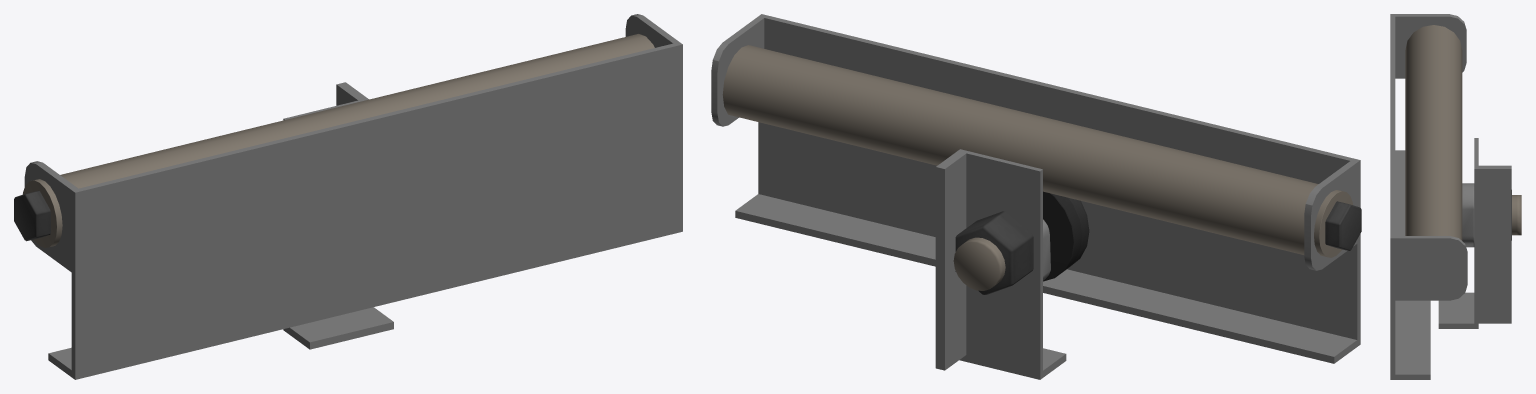
Rendered from chupon_caja.fbx.
3 renders of one model, left to right at view 1: azimuth 30°, elevation 25°; view 2: azimuth 150°, elevation 25°; view 3: azimuth 270°, elevation 25°, orthographic. The views are drawn at different scales.
Parts seen in each view (by area): view 1: pCube18, pCylinder22, pCube17, polySurface570, pCylinder23; view 2: pCube18, pCylinder22, pCube17, polySurface568, polySurface564, pCylinder21, polySurface570, pCylinder23; view 3: pCube18, pCylinder22, pCube17, polySurface569, pCylinder21.
Boxes of the visible parts, bbox=[...] form: pCube18: bbox=[24, 14, 682, 379]; pCylinder22: bbox=[60, 34, 654, 188]; pCube17: bbox=[283, 82, 393, 349]; polySurface570: bbox=[14, 190, 50, 241]; pCylinder23: bbox=[22, 179, 62, 247]; pCube18: bbox=[711, 14, 1360, 363]; pCylinder22: bbox=[722, 45, 1318, 254]; pCube17: bbox=[935, 149, 1066, 379]; polySurface568: bbox=[955, 211, 1033, 294]; polySurface564: bbox=[1043, 191, 1089, 281]; pCylinder21: bbox=[953, 220, 1044, 290]; polySurface570: bbox=[1325, 201, 1361, 250]; pCylinder23: bbox=[1314, 190, 1352, 257]; pCube18: bbox=[1390, 14, 1467, 379]; pCylinder22: bbox=[1405, 25, 1462, 240]; pCube17: bbox=[1438, 138, 1511, 328]; polySurface569: bbox=[1462, 183, 1474, 247]; pCylinder21: bbox=[1512, 195, 1521, 235].
Bounding box in the file's own units: 53.33 × 19.91 × 12.77.
3 materials, 1 textured.
